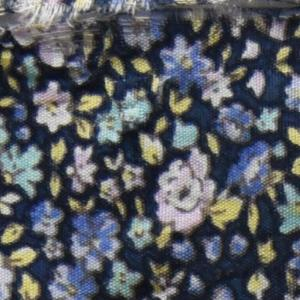Damage: (1, 1, 300, 59), (97, 100, 163, 137)
